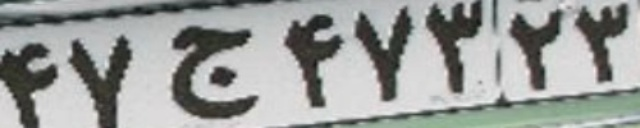2: (505, 8, 563, 90)
3: (422, 0, 483, 94), (572, 1, 627, 82)
4: (282, 14, 343, 109), (1, 40, 60, 126)
6: (351, 4, 413, 103)
7: (64, 33, 134, 126)
jim: (167, 24, 258, 118)
